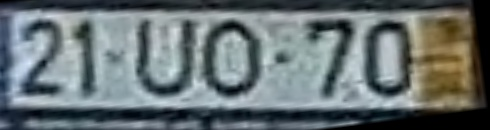0: (361, 16, 419, 101)
1: (69, 17, 101, 102)
2: (14, 16, 70, 100)
7: (304, 18, 361, 103)
O: (200, 16, 267, 99)
U: (130, 16, 203, 100)
